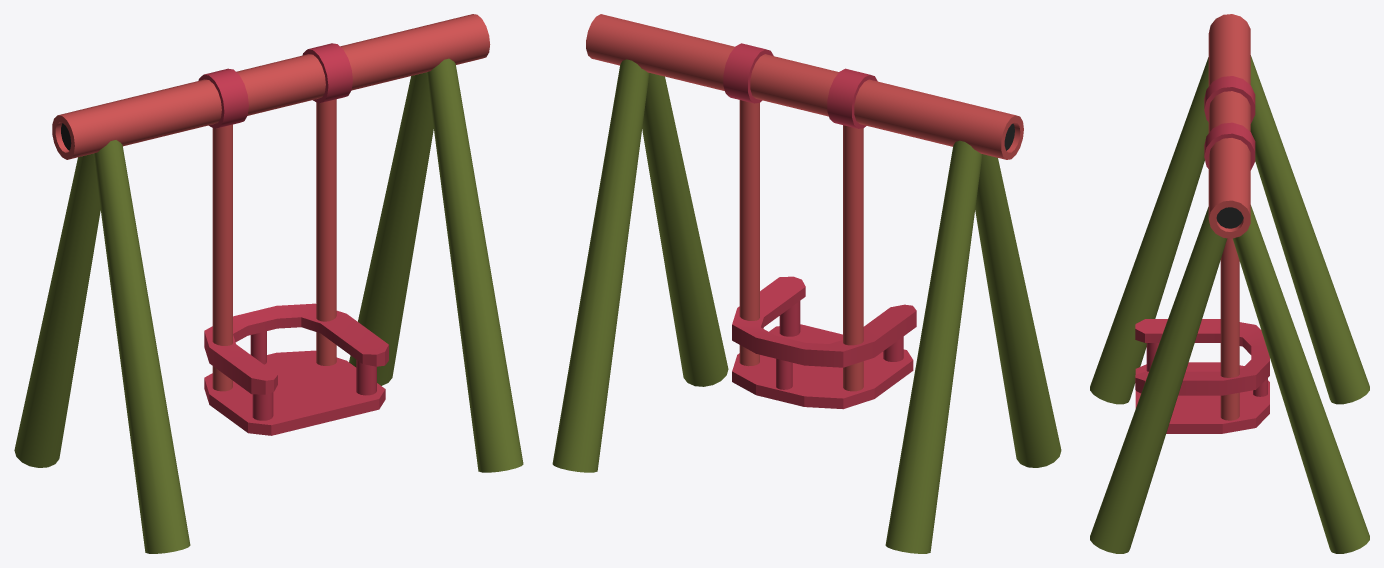
Rendered from Swing.fbx.
The picture shows the model from 3 angles, left to right: view 1: azimuth 30°, elevation 25°; view 2: azimuth 150°, elevation 25°; view 3: azimuth 270°, elevation 25°; orthographic projection. The views are drawn at different scales.
Parts seen in each view (by area): view 1: Swing; view 2: Swing; view 3: Swing.
Part boxes in pixels (x1=…): Swing: x1=14, y1=14, x2=523, y2=553; Swing: x1=552, y1=14, x2=1061, y2=553; Swing: x1=1090, y1=14, x2=1369, y2=553.
Bounding box in the file's own units: 643 × 598 × 408.
